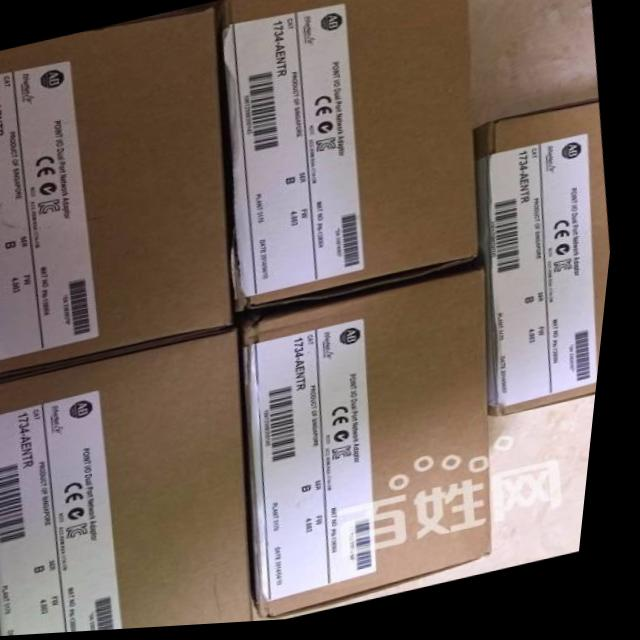box: (0, 9, 239, 378), (252, 275, 504, 621), (223, 0, 484, 315), (0, 331, 267, 637), (477, 105, 616, 423)
